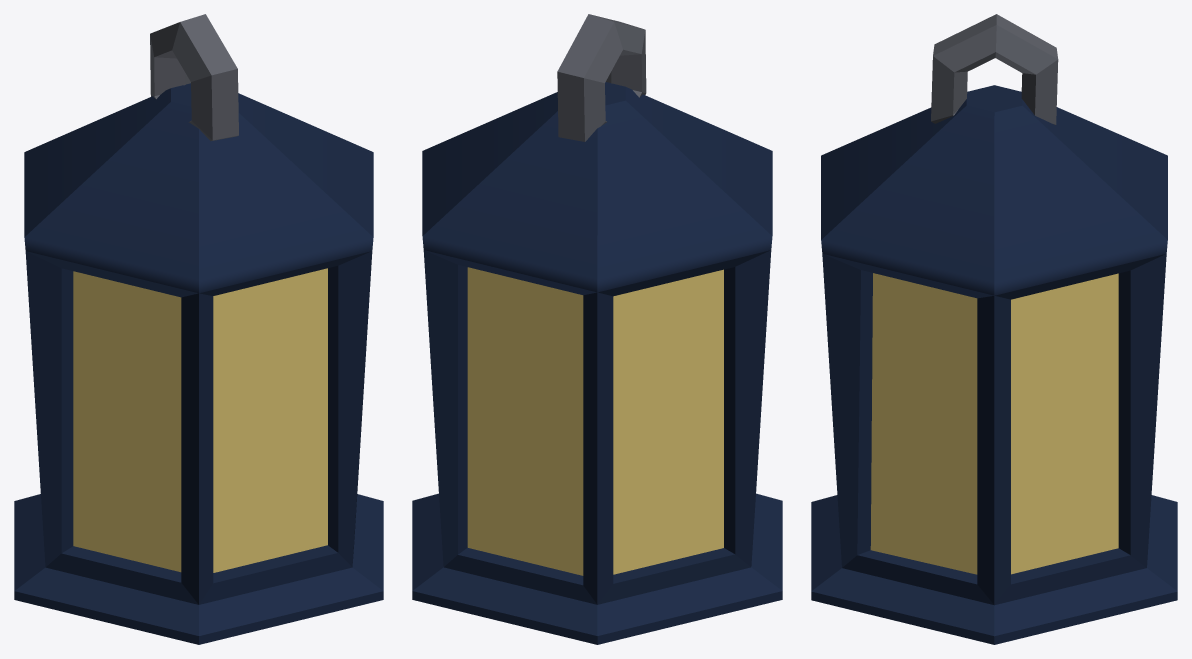
File: lantern.fbx
3 views of the same model, side by side, from view 1: azimuth 30°, elevation 25°; view 2: azimuth 150°, elevation 25°; view 3: azimuth 270°, elevation 25° (orthographic).
Visible parts, largest first — view 1: pCylinder1, pTorus1; view 2: pCylinder1, pTorus1; view 3: pCylinder1, pTorus1.
Boxes of the visible parts, bbox=[...] form: pCylinder1: bbox=[14, 83, 383, 644]; pTorus1: bbox=[150, 14, 238, 141]; pCylinder1: bbox=[412, 82, 782, 644]; pTorus1: bbox=[557, 14, 646, 141]; pCylinder1: bbox=[811, 85, 1177, 644]; pTorus1: bbox=[931, 14, 1058, 124].
Bounding box in the file's own units: 9.02 × 12.57 × 7.81.
